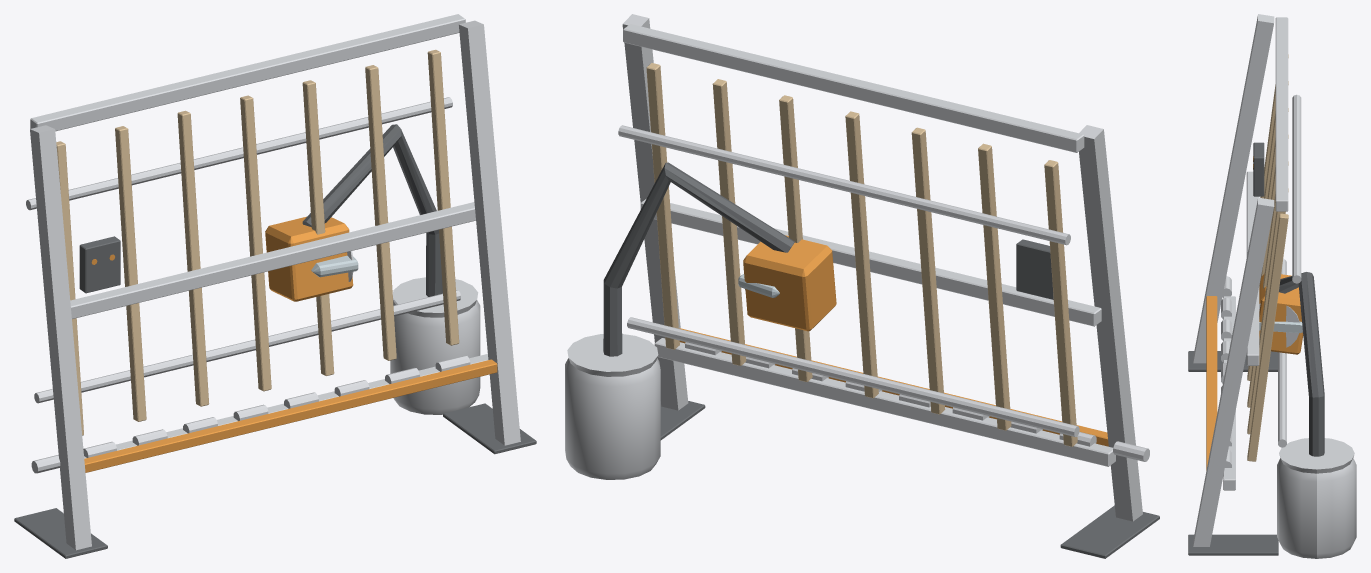
3 views of the same model, side by side, from view 1: azimuth 30°, elevation 25°; view 2: azimuth 150°, elevation 25°; view 3: azimuth 270°, elevation 25° (orthographic). The views are drawn at different scales.
Visible parts, largest first — view 1: timber-cutting-saw-station; view 2: timber-cutting-saw-station; view 3: timber-cutting-saw-station.
Boxes of the visible parts, box(x1,y1,x2,y2) form: timber-cutting-saw-station: box(14, 14, 536, 558); timber-cutting-saw-station: box(565, 14, 1159, 558); timber-cutting-saw-station: box(1188, 14, 1356, 558).
Size of the model in its own units: 2.75 by 2.12 by 0.9301.
